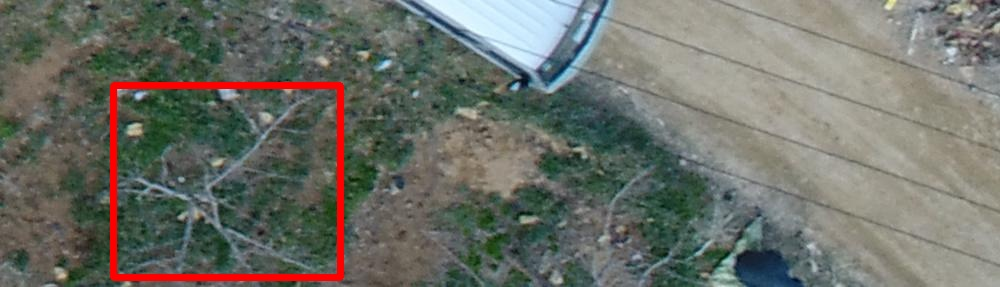apple: (113, 85, 340, 277)
